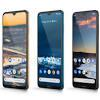Smartphone: (70, 11, 100, 91), (37, 10, 63, 91), (2, 11, 28, 89)
